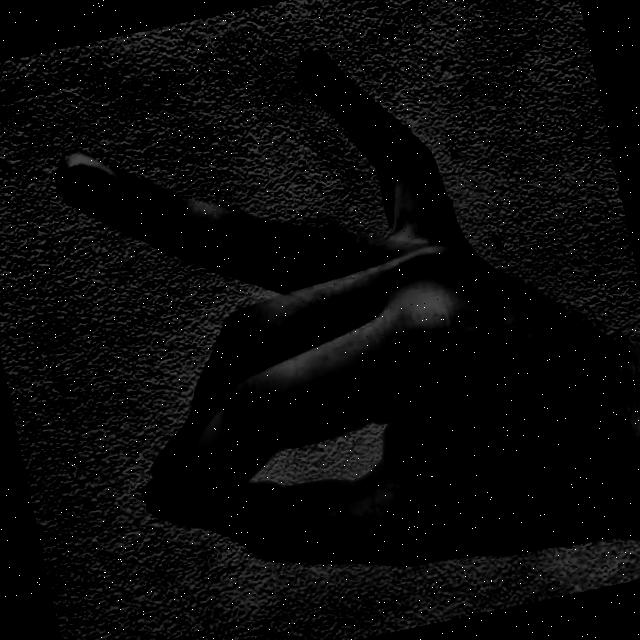Na: (1, 0, 607, 640)
